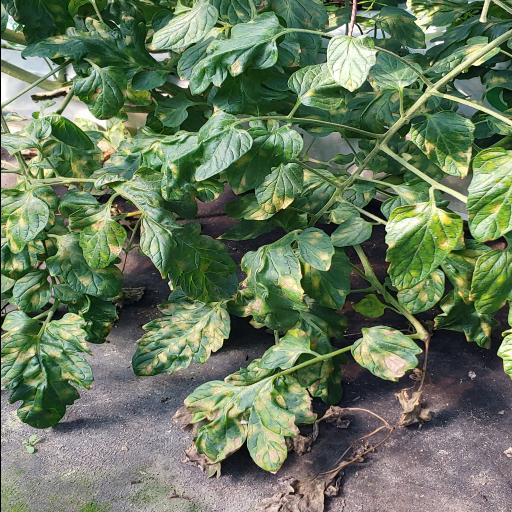Leaf Mold: (170, 380, 300, 478), (0, 310, 93, 429), (139, 207, 237, 302), (130, 302, 230, 378), (20, 17, 162, 69), (383, 200, 463, 290), (92, 126, 189, 190), (239, 244, 304, 332), (44, 232, 122, 298), (408, 110, 476, 180), (464, 146, 512, 242), (350, 326, 424, 384), (193, 110, 252, 182), (468, 249, 512, 314), (2, 194, 46, 256), (254, 163, 303, 214), (78, 219, 130, 265), (272, 376, 316, 424), (11, 269, 52, 313), (297, 227, 334, 271)
